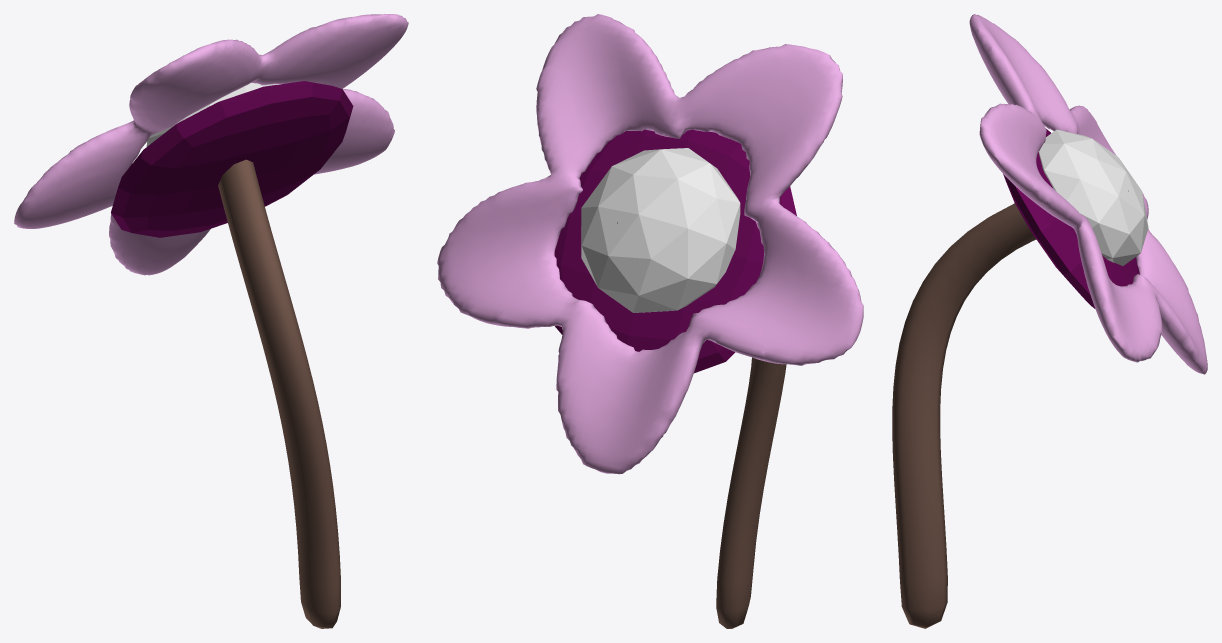
File: FlowerAsset.fbx
3 renders of one model, left to right at view 1: azimuth 30°, elevation 25°; view 2: azimuth 150°, elevation 25°; view 3: azimuth 270°, elevation 25°, orthographic. The views are drawn at different scales.
Visible parts, largest first — view 1: Plane.002, Plane.003, BezierCurve.001; view 2: Plane.002, Icosphere.001, Plane.003, BezierCurve.001; view 3: Plane.002, BezierCurve.001, Icosphere.001, Plane.003.
Part boxes in pixels (box(x1,y1,x2,y2)): Plane.002: box(14, 14, 408, 275); Plane.003: box(111, 81, 353, 237); BezierCurve.001: box(218, 159, 340, 628); Plane.002: box(437, 14, 863, 474); Icosphere.001: box(581, 148, 740, 312); Plane.003: box(554, 129, 796, 373); BezierCurve.001: box(617, 222, 786, 628); Plane.002: box(969, 14, 1207, 374); BezierCurve.001: box(892, 190, 1128, 628); Icosphere.001: box(1038, 129, 1148, 265); Plane.003: box(1003, 129, 1139, 308).
Size of the model in its own units: 88.07 by 128 by 65.02.
